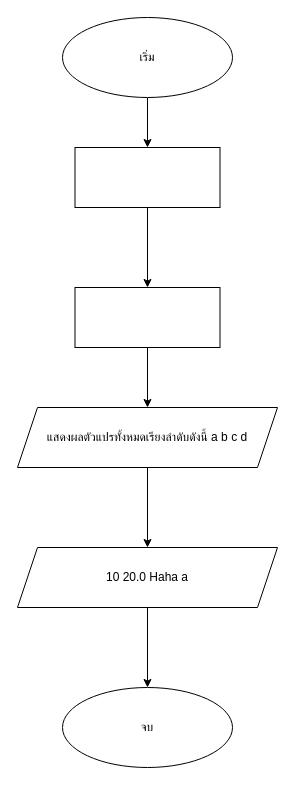
Image size: 295x785. Some labels were removed from this diagram. The shapes that lost their labels are listed below. From the top down, each one's box as (x1, y1, x2, y2) in pixels, then its label:
(74, 146, 220, 208): สร้างโปรเจคต์
(74, 286, 220, 348): กำหนดตัวแปร
